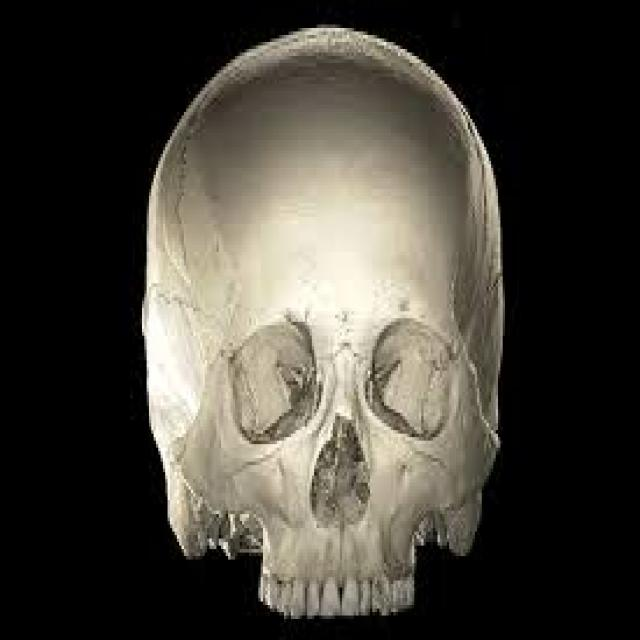skull: (131, 0, 519, 640)
